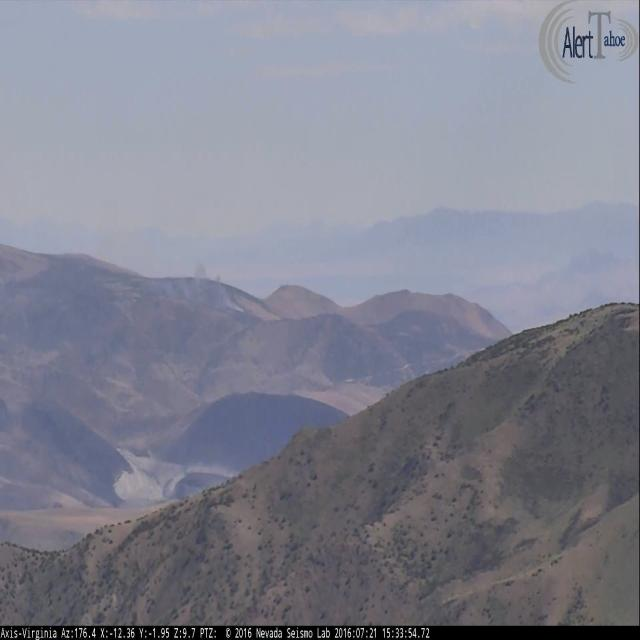smoke: (167, 264, 247, 321)
